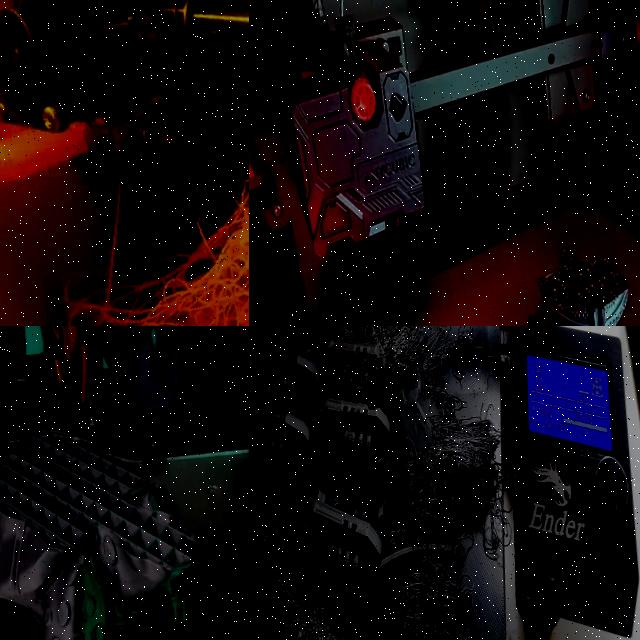spaghetti: (314, 326, 501, 417), (404, 405, 500, 552), (251, 535, 356, 640), (399, 541, 489, 640), (249, 497, 269, 594)
